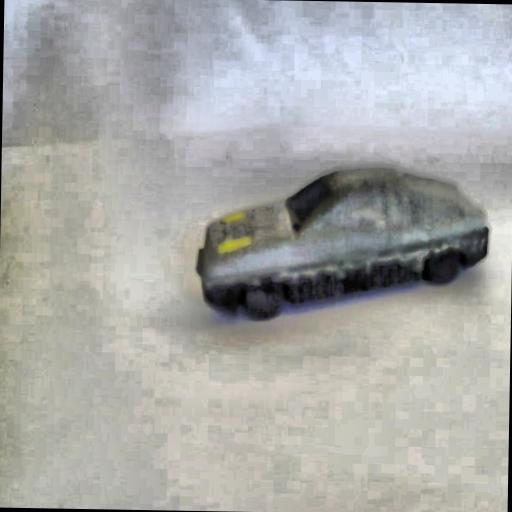normal_car: (191, 160, 493, 327)
